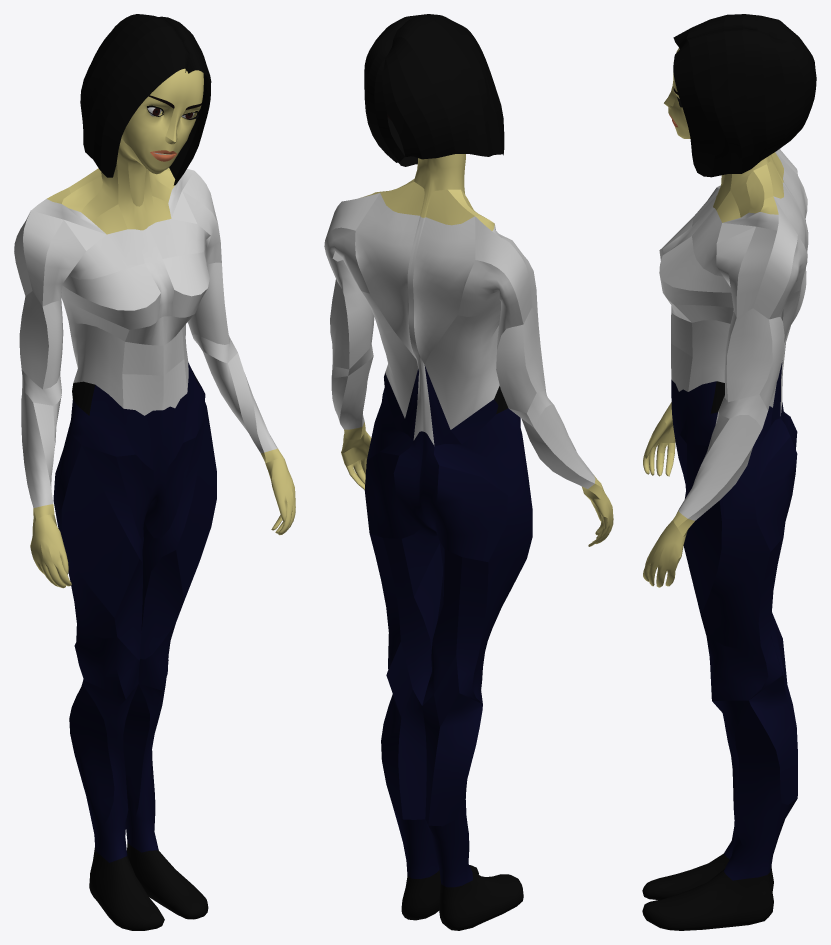
File: lado izquierdo.obj
3 renders of one model, left to right at view 1: azimuth 30°, elevation 25°; view 2: azimuth 150°, elevation 25°; view 3: azimuth 270°, elevation 25°, orthographic. The views are drawn at different scales.
Visible parts, largest first — view 1: Piel.006; view 2: Piel.006; view 3: Piel.006.
Boxes of the visible parts, bbox=[...] form: Piel.006: bbox=[14, 14, 295, 930]; Piel.006: bbox=[324, 14, 613, 930]; Piel.006: bbox=[642, 14, 816, 930].
Bounding box in the file's own units: 1.02 × 3.25 × 0.5661.
